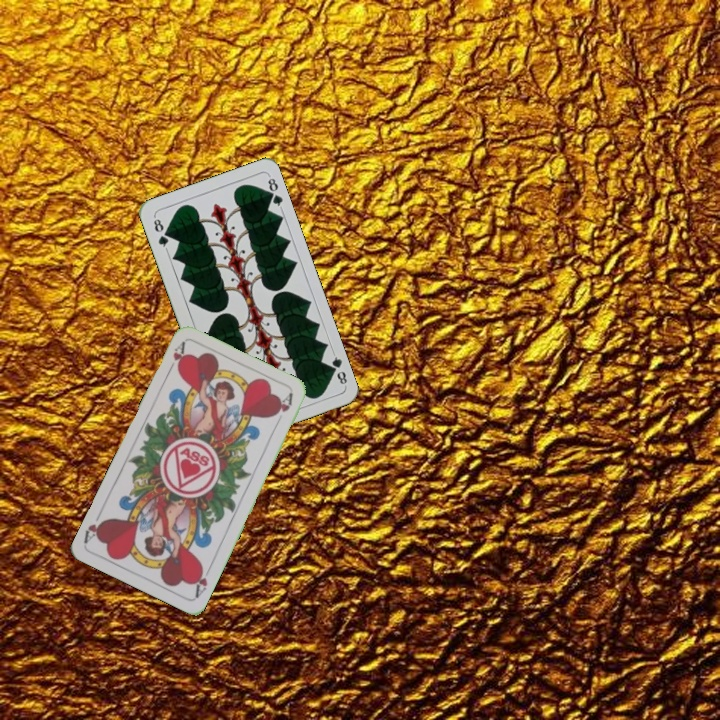G8: (325, 349, 350, 387), (150, 213, 171, 252)
HA: (163, 338, 188, 376), (190, 561, 214, 600)
